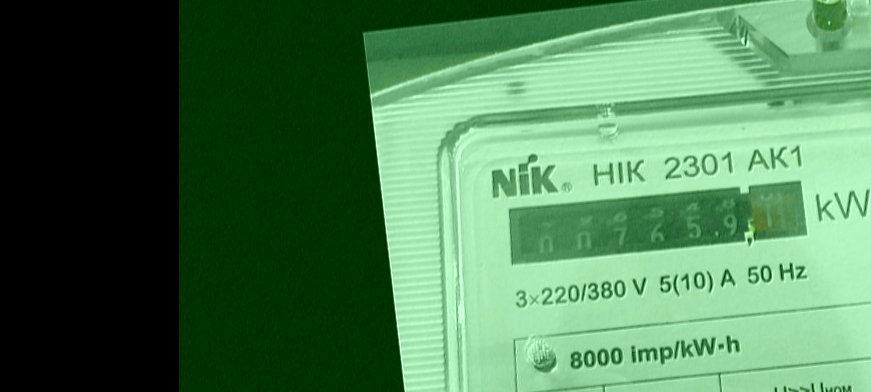0: (575, 225, 597, 252), (537, 229, 558, 257)
1: (762, 197, 780, 230)
5: (683, 210, 708, 240)
6: (648, 218, 669, 244)
7: (611, 222, 634, 249)
9: (721, 208, 742, 237)
screen: (496, 160, 822, 286)
